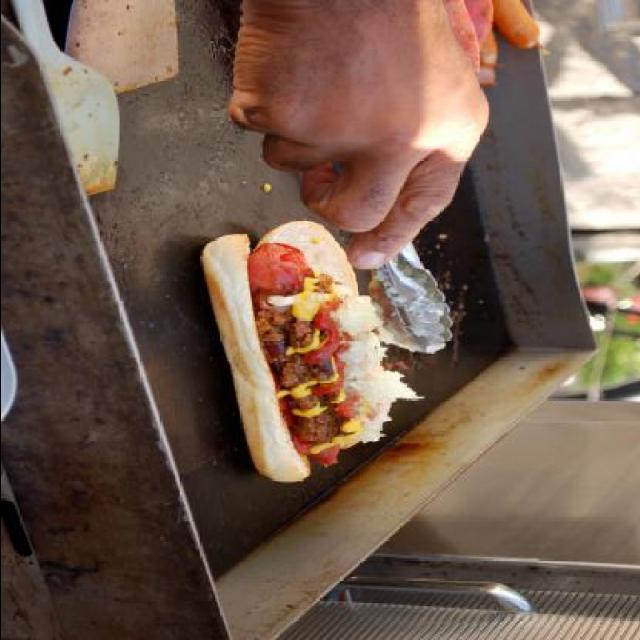Hot dog: (200, 218, 428, 494)
